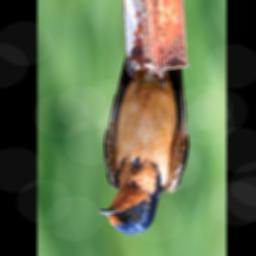Swallow: (97, 44, 189, 235)
